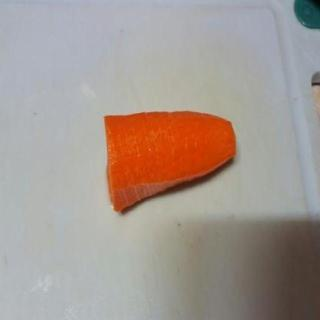carrot: (103, 106, 237, 216)
